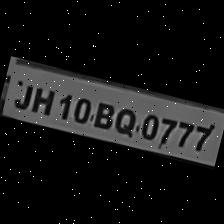0: (67, 90, 95, 124), (134, 107, 162, 141)
1: (52, 88, 76, 120)
7: (188, 118, 214, 154), (169, 115, 195, 150), (154, 113, 178, 146)
B: (89, 96, 119, 130)
H: (26, 81, 58, 116)
J: (8, 75, 34, 110)
Q: (110, 102, 141, 138)
